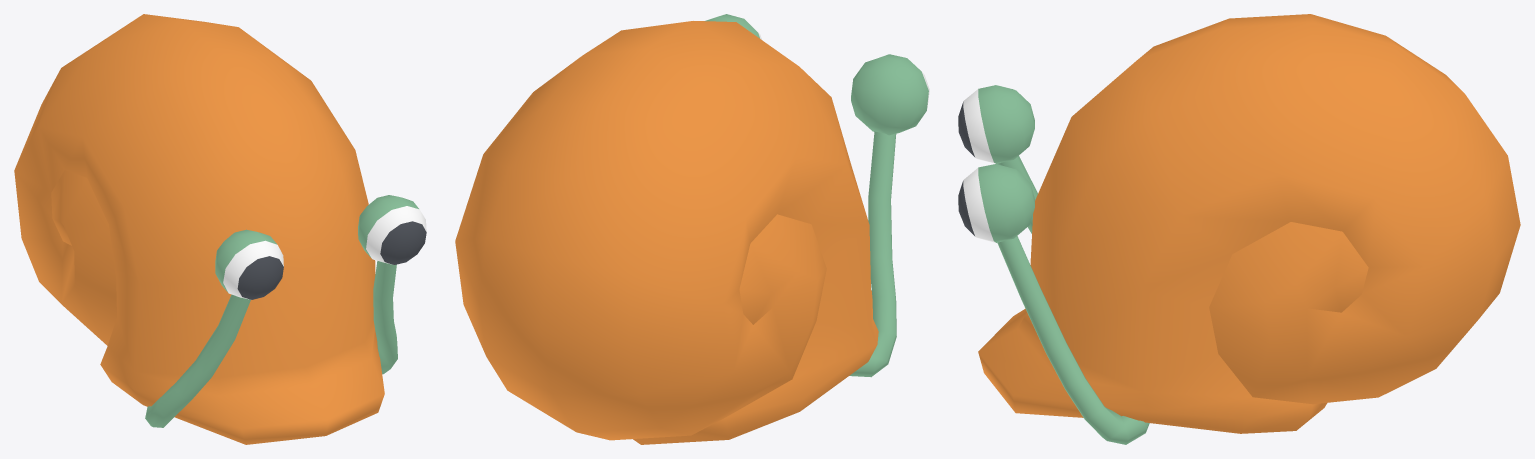
Rendered from accessory-snailhat.glb.
The picture shows the model from 3 angles, left to right: view 1: azimuth 30°, elevation 25°; view 2: azimuth 150°, elevation 25°; view 3: azimuth 270°, elevation 25°; orthographic projection. The views are drawn at different scales.
Parts seen in each view (by area): view 1: accessory__JA_m_Hat09__0; view 2: accessory__JA_m_Hat09__0; view 3: accessory__JA_m_Hat09__0.
Boxes of the visible parts, box(x1,y1,x2,y2) form: accessory__JA_m_Hat09__0: box(14, 14, 426, 444); accessory__JA_m_Hat09__0: box(455, 14, 929, 444); accessory__JA_m_Hat09__0: box(958, 14, 1520, 444).
Size of the model in its own units: 0.4483 by 0.5715 by 0.7557.
